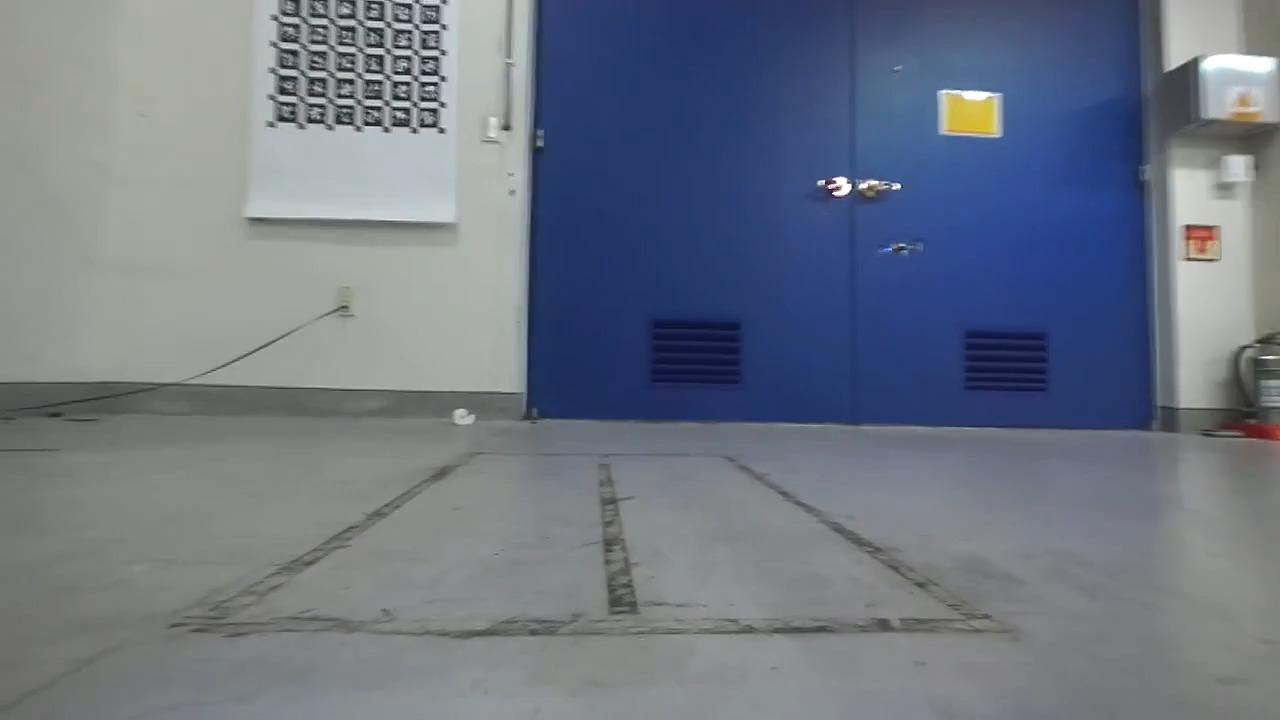crazyflie: (876, 235, 925, 260)
